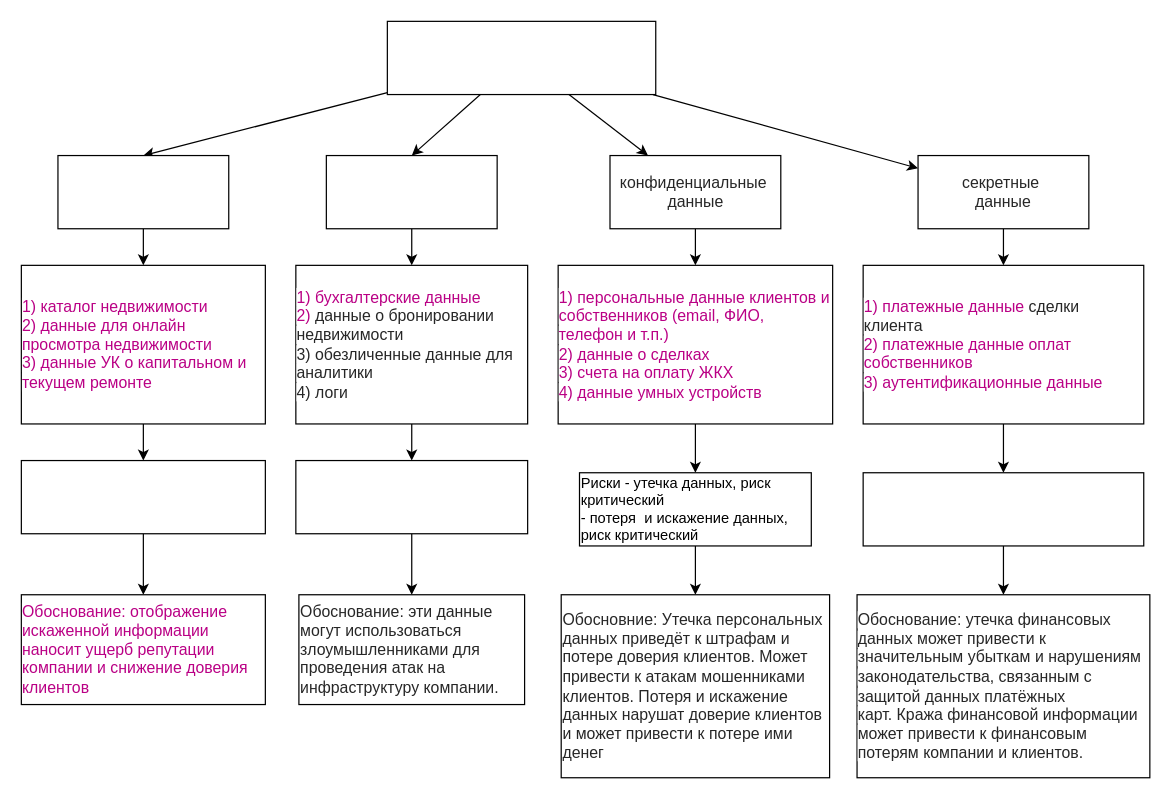
The diagram is 1171 pixels wide and 799 high, and some of its shapes have lost their labels. The box of each missing label's shape, as (x1, y1, x2, y2) in pixels:
Безопасность данных: (386, 20, 656, 95)
внутренние данные: (325, 154, 497, 229)
публичные данные: (57, 154, 229, 229)
Риски - искажение данных, риск значительный: (20, 459, 265, 534)
Риски - утечка данных, риск значительный: (295, 459, 528, 534)
Риски - утечка данных, риск критический: (862, 472, 1144, 546)
